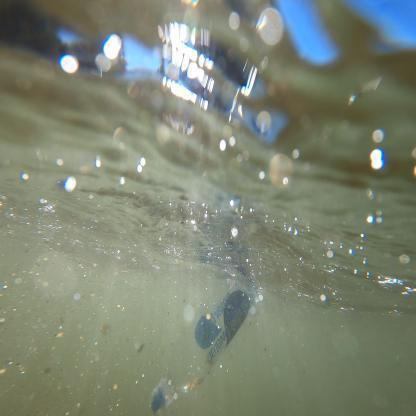Rác: (146, 256, 268, 411)
